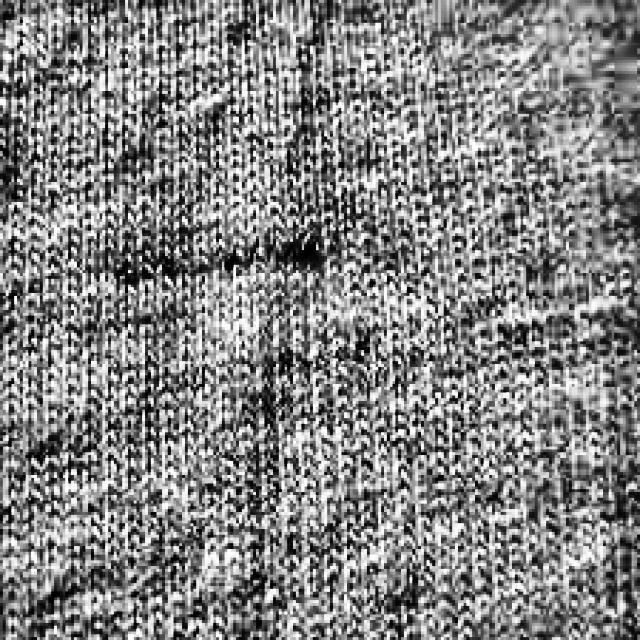cut: (113, 219, 360, 295), (286, 231, 341, 268), (216, 247, 251, 275)
